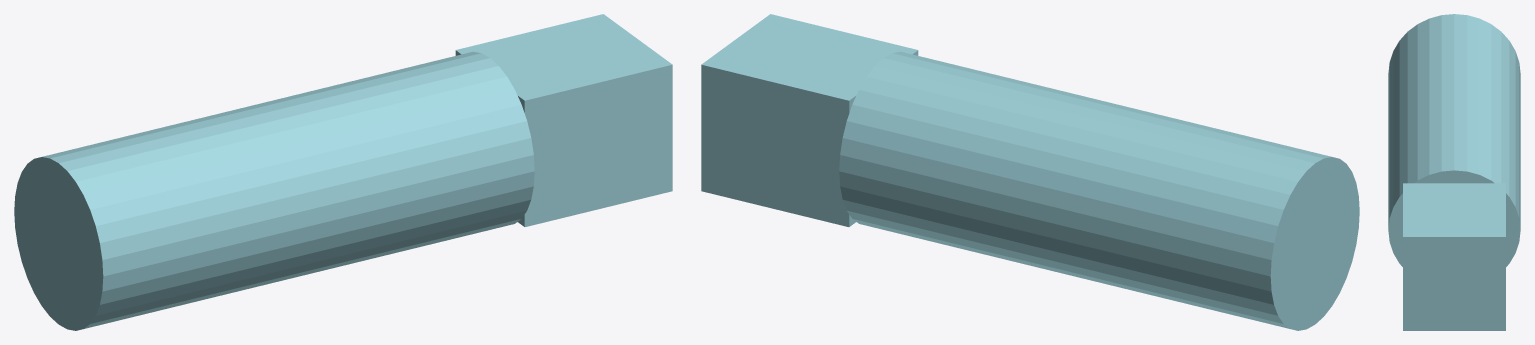
The model's file is cylinder_brush_v9006.obj.
3 renders of one model, left to right at view 1: azimuth 30°, elevation 25°; view 2: azimuth 150°, elevation 25°; view 3: azimuth 270°, elevation 25°, orthographic. The views are drawn at different scales.
Size of the model in its own units: 0.2008 by 0.0534 by 0.0534.
Materials: 1 (1 with a texture image).
